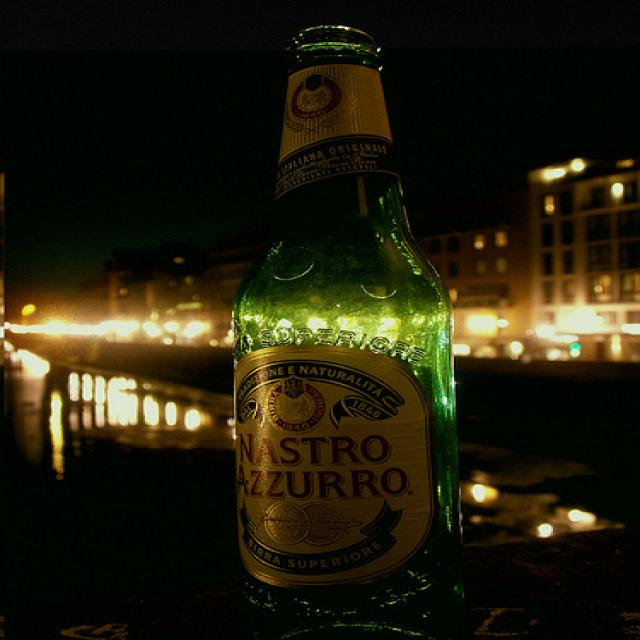Bottle: (250, 0, 471, 640)
